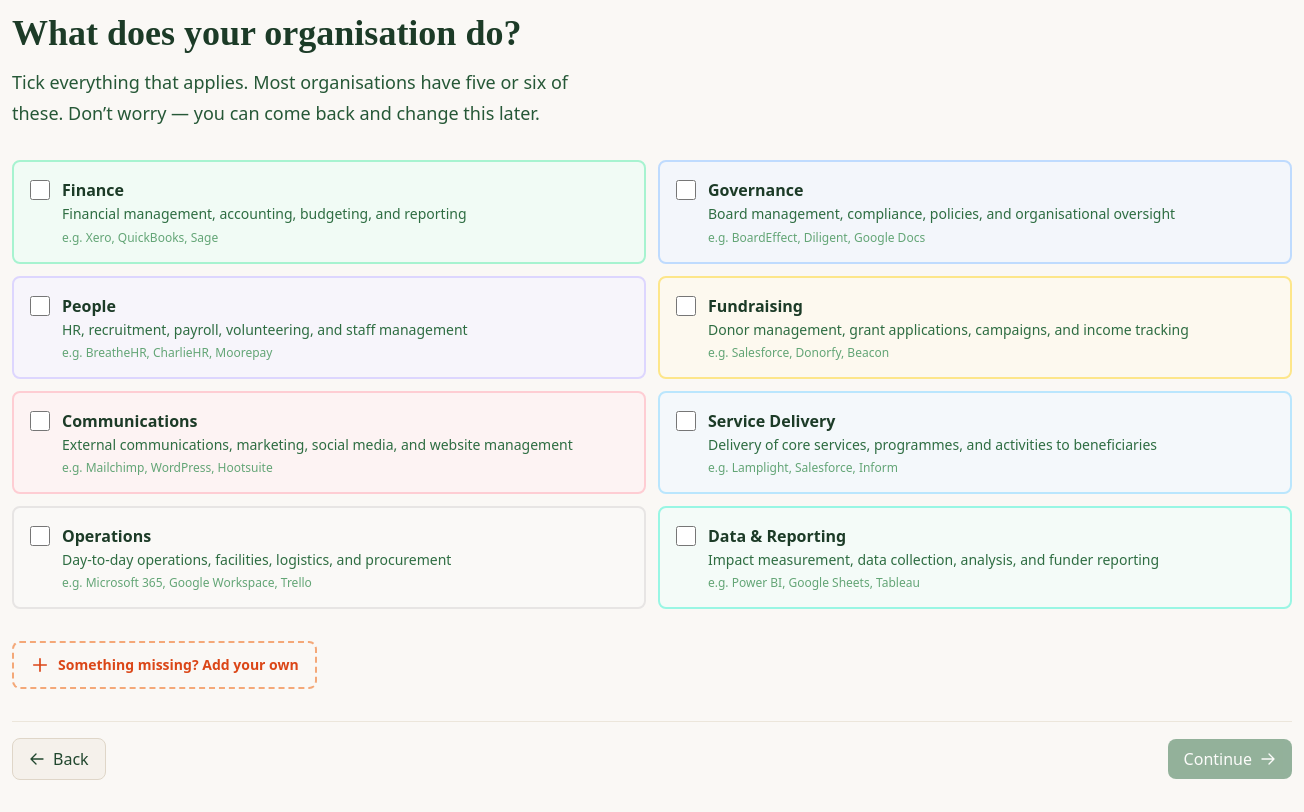
it: FunctionPicker › reveals input when "Add your own" is clicked
The width and height of the screenshot is (1304, 812).
Click the button "Something missing? Add your own". click: (164,665)
box: top-left (12, 641), bottom-right (317, 689)
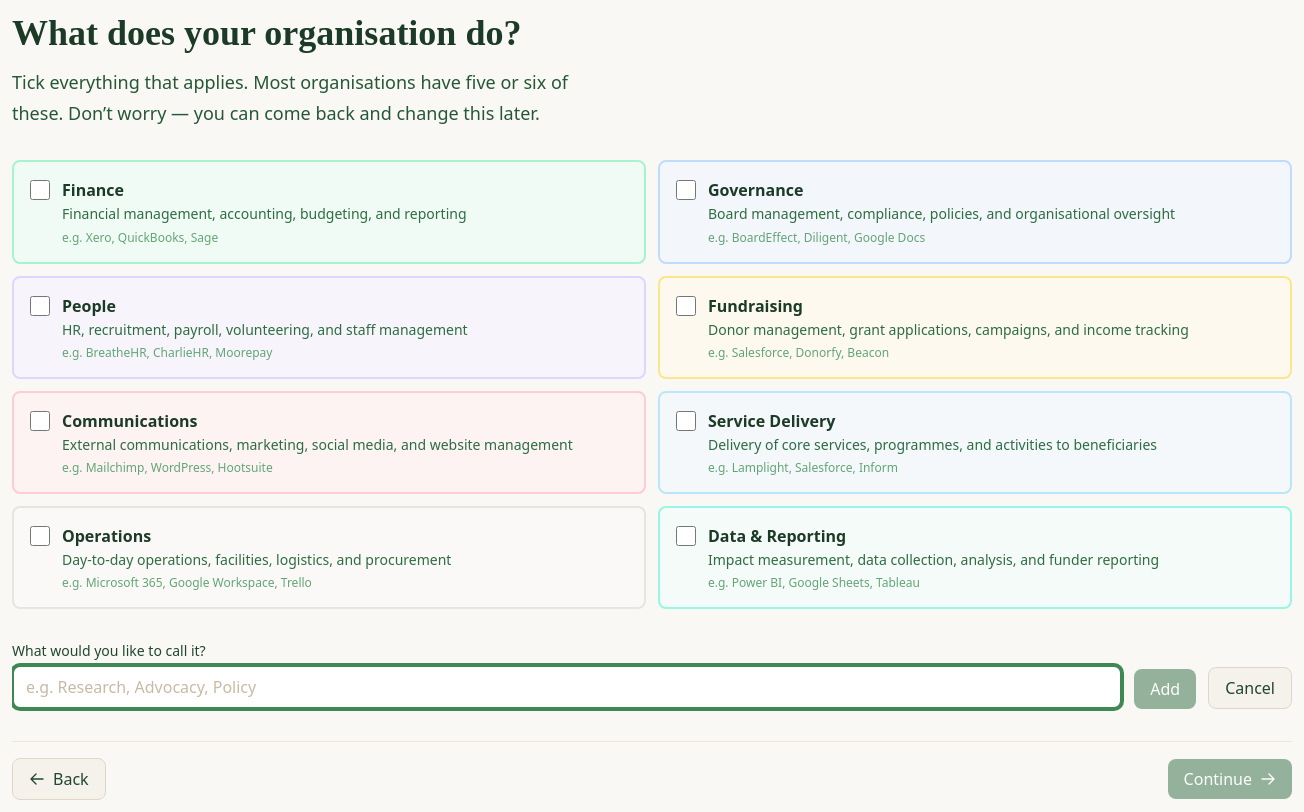
Now the field labelled "What would you like to call it?" is shown, box top-left (12, 665), bottom-right (1122, 709)
